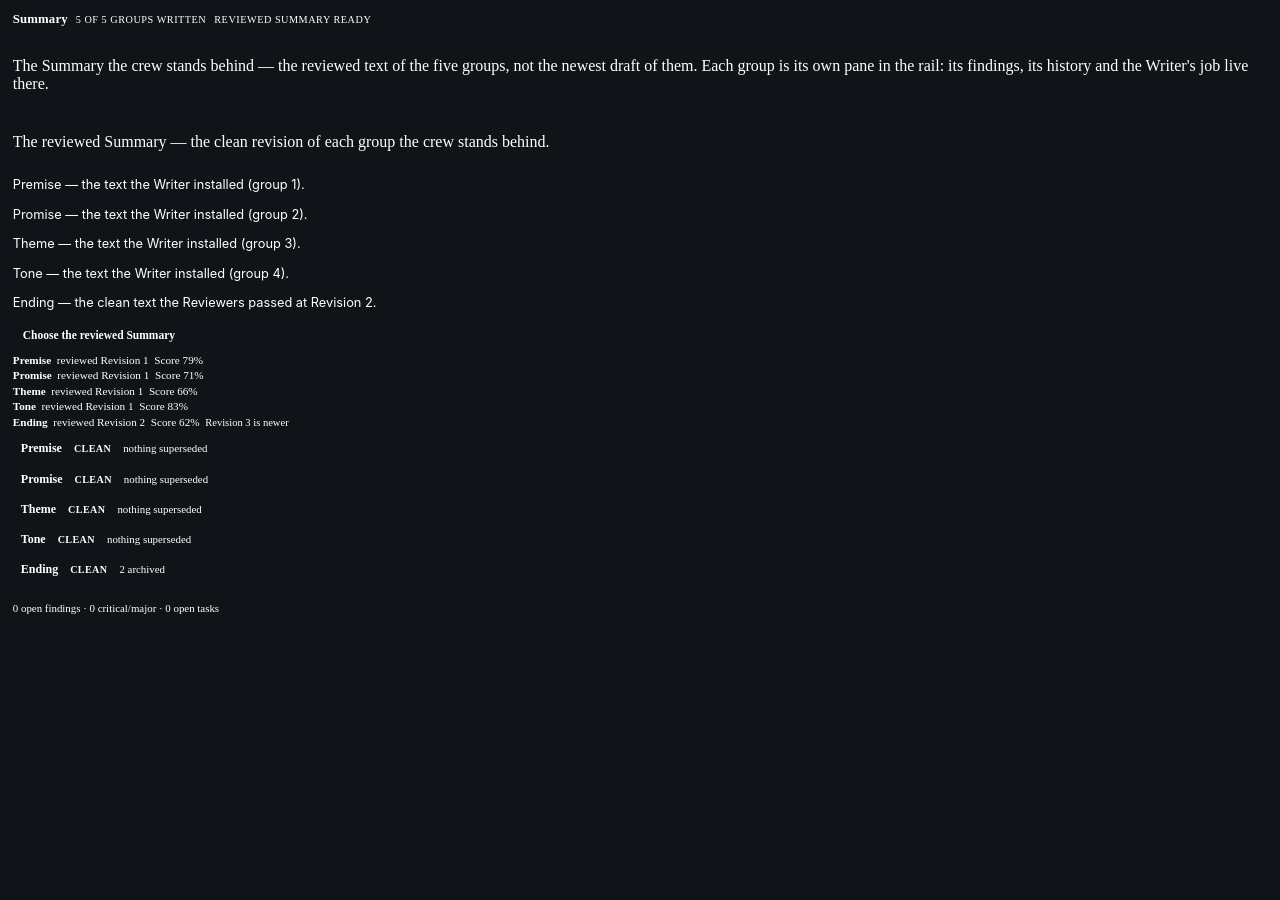
it: SummaryOverviewPane — the Author chooses the reviewed Summary (D-68) › arms on the first click, names what will be dropped, and sends only on the confirm
Click the button with test id "reviewed-choose-submit": [99, 335] box [13, 324, 185, 346]
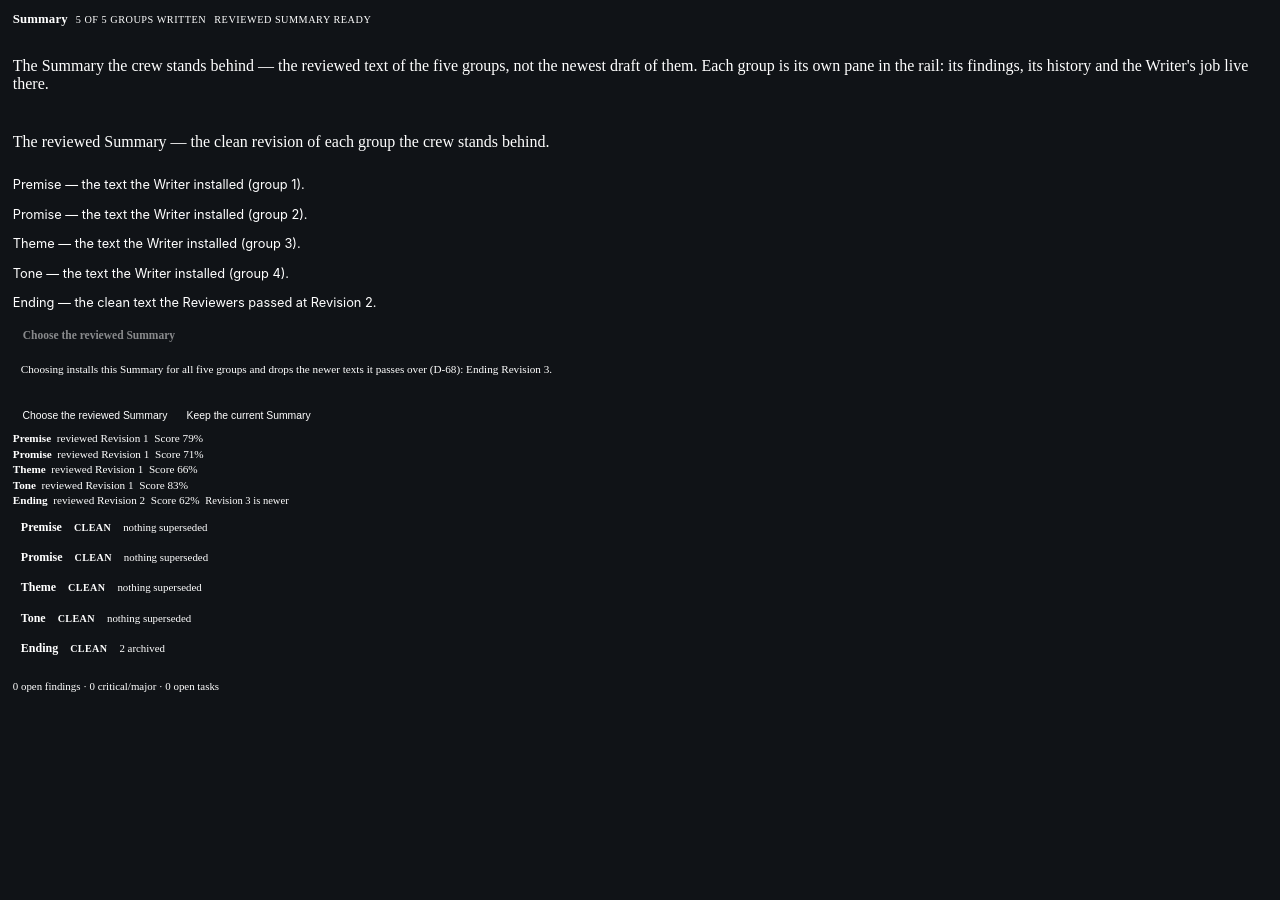
Expected: the text with test id "reviewed-choose-note" shows "Choosing installs this Summary for all five groups and drops the newer texts it passes over (D-68): Ending Revision 3.", [21, 363, 552, 375]
Click the button with test id "reviewed-choose-confirm": [95, 415] box [13, 406, 177, 424]
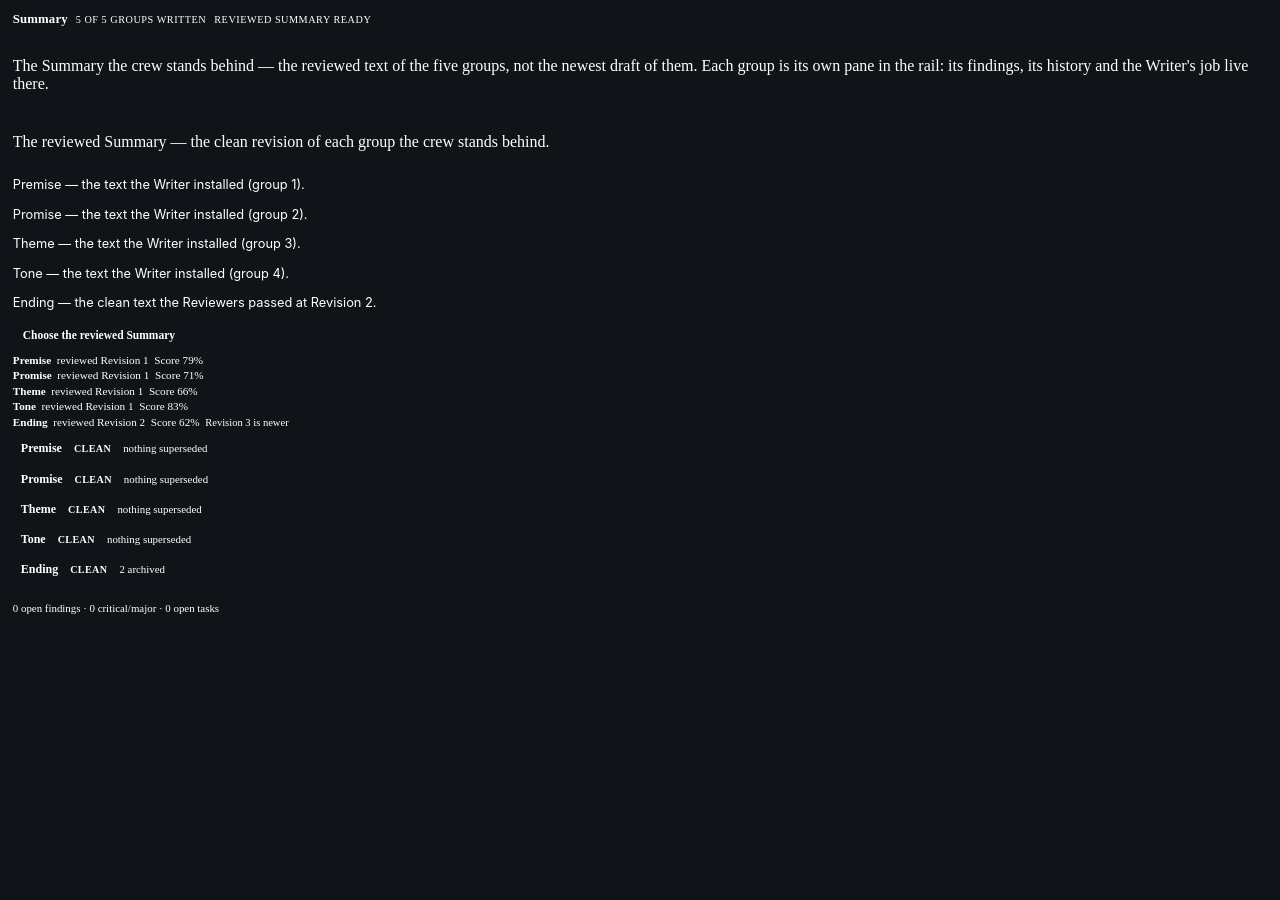
Expected: the button with test id "reviewed-choose-confirm" is gone
Expected: the text with test id "reviewed-choose-note" is gone
